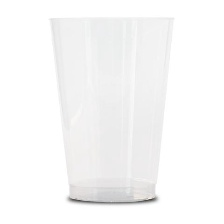glass: (43, 13, 185, 211)
